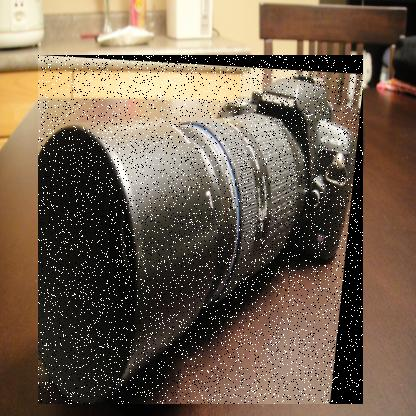Camera: (39, 56, 365, 406)
